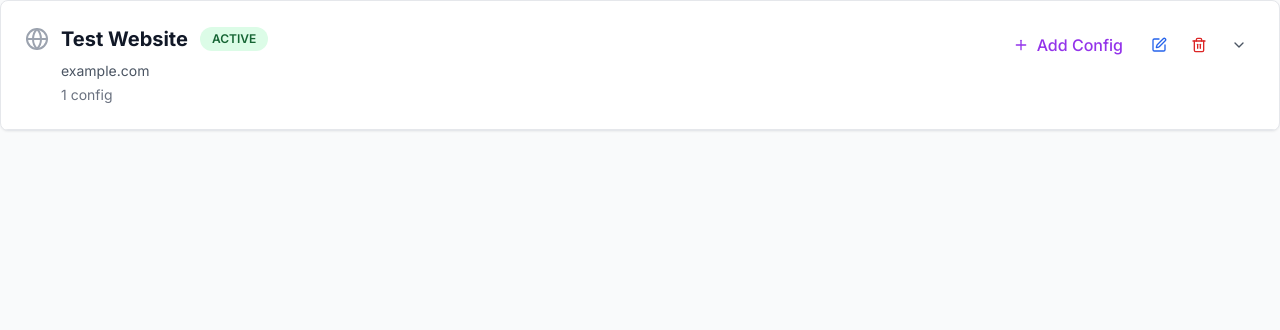
Test case: WebsiteCard › Expand/collapse functionality › should collapse when collapse button is clicked
Expand first
Click the button titled "Expand" at (1239, 45), box [1223, 29, 1255, 61]
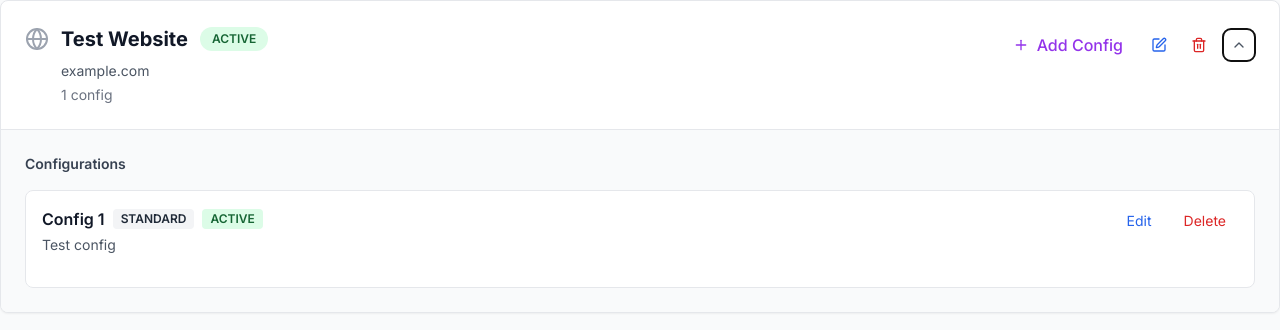
expect the heading "Configurations" is shown: met, box [25, 155, 126, 172]
Then collapse
Click the button titled "Collapse" at (1239, 45), box [1223, 29, 1255, 61]
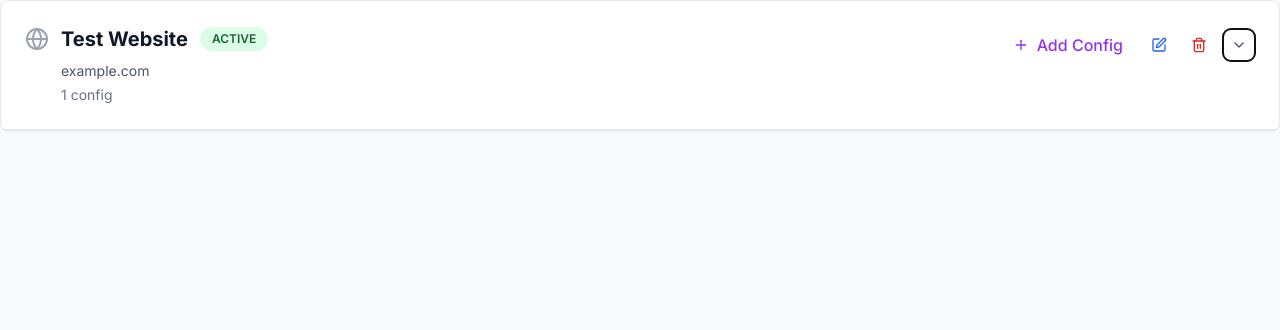
expect the heading "Configurations" is gone: met
